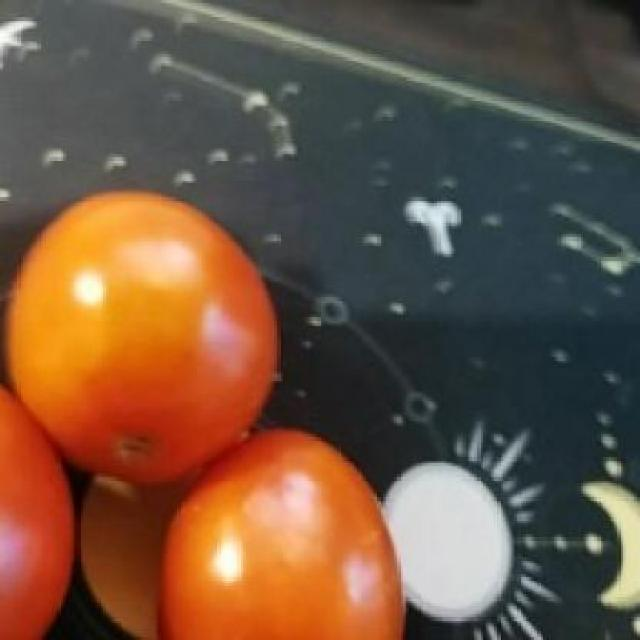Fresh Tomato: (0, 175, 284, 478), (133, 415, 428, 640), (0, 374, 88, 640)
